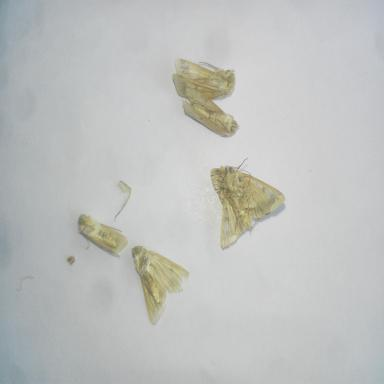abw: (206, 159, 287, 252), (130, 242, 192, 328), (177, 82, 243, 143), (168, 51, 237, 108), (75, 211, 131, 261)
